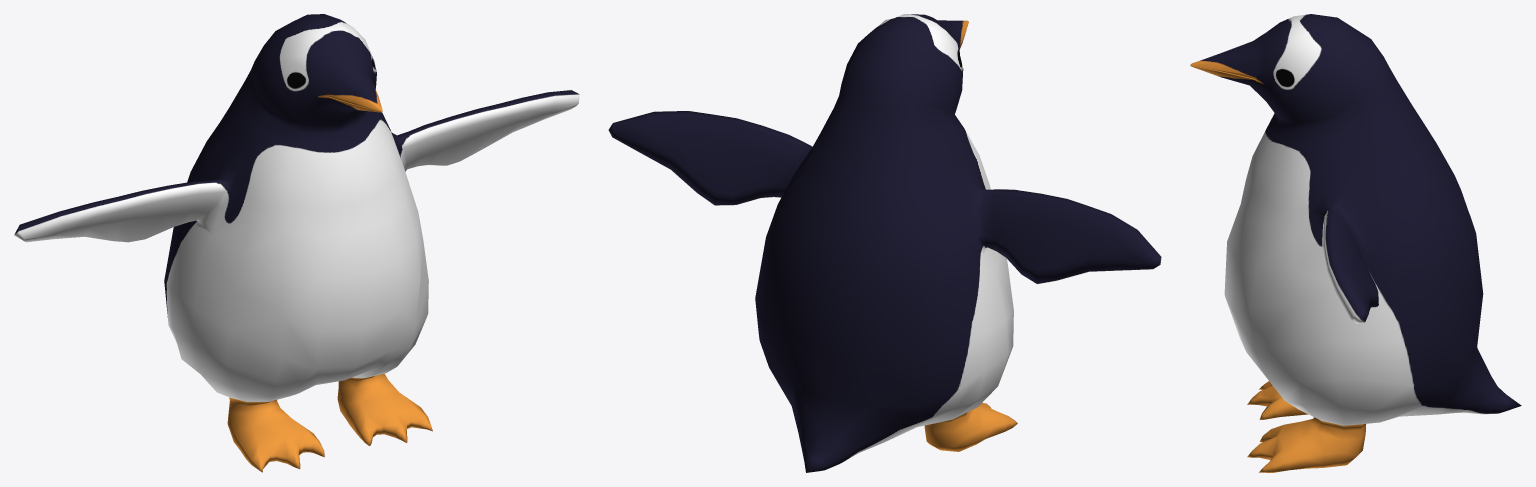
The model's file is Penguin_Born.fbx.
3 views of the same model, side by side, from view 1: azimuth 30°, elevation 25°; view 2: azimuth 150°, elevation 25°; view 3: azimuth 270°, elevation 25° (orthographic). The views are drawn at different scales.
Visible parts, largest first — view 1: penguin01; view 2: penguin01; view 3: penguin01.
Part boxes in pixels (x1,y1,x2,y2): penguin01: (14, 14, 579, 472); penguin01: (608, 14, 1161, 472); penguin01: (1190, 14, 1521, 472).
Bounding box in the file's own units: 0.0461 × 0.0322 × 0.0235.
